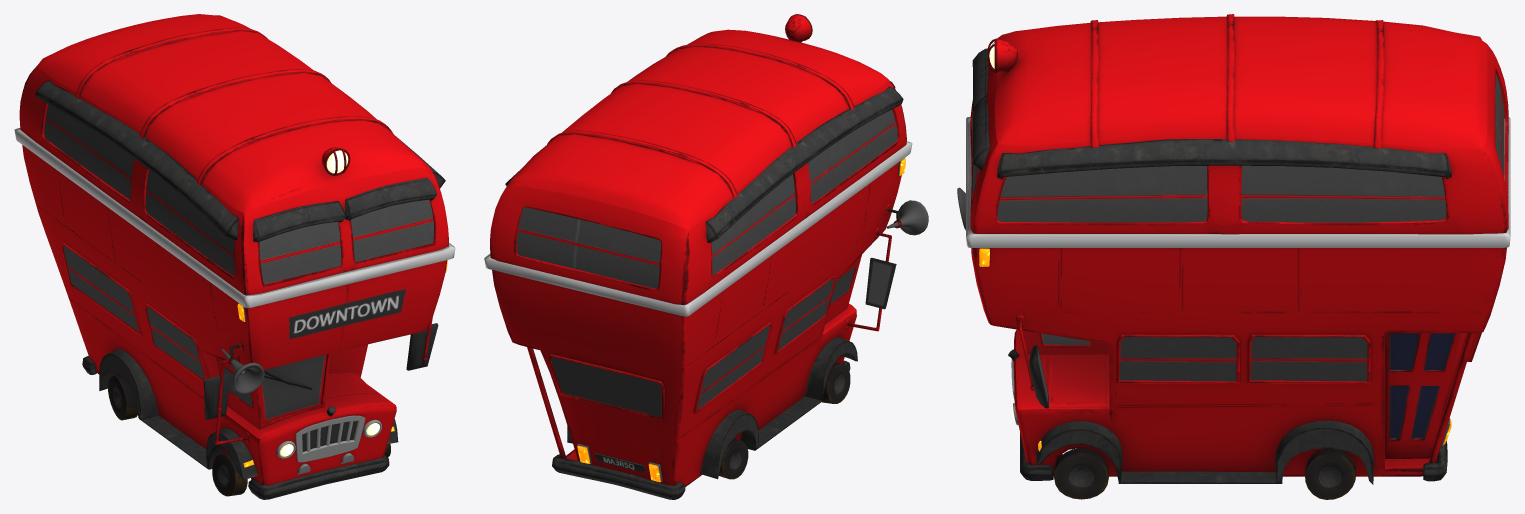
3 views of the same model, side by side, from view 1: azimuth 30°, elevation 25°; view 2: azimuth 150°, elevation 25°; view 3: azimuth 270°, elevation 25° (orthographic). The views are drawn at different scales.
Visible parts, largest first — view 1: DoubleDecker.1; view 2: DoubleDecker.1; view 3: DoubleDecker.1.
Boxes of the visible parts, bbox=[...] form: DoubleDecker.1: bbox=[14, 14, 455, 499]; DoubleDecker.1: bbox=[484, 14, 928, 499]; DoubleDecker.1: bbox=[957, 14, 1510, 499].
Size of the model in its own units: 0.1752 by 0.252 by 0.3043.
1 material, 1 textured.
